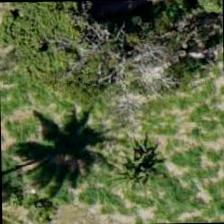Kelapa_Sawit: (96, 121, 188, 214)
